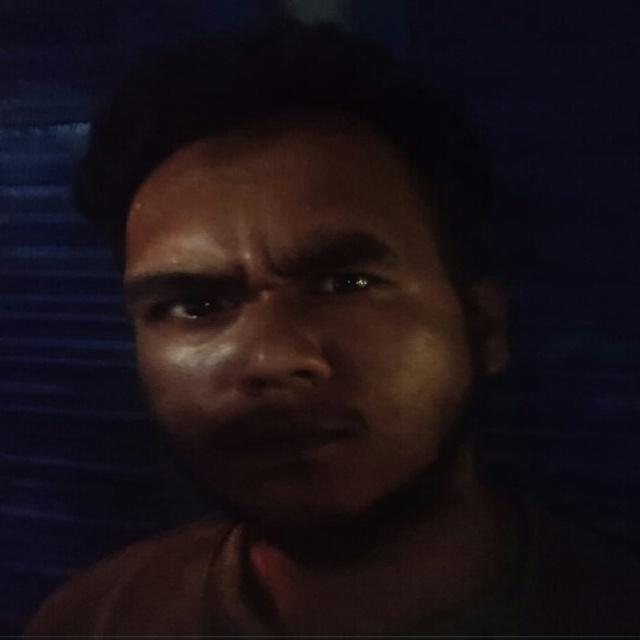Angry: (117, 126, 542, 556)
